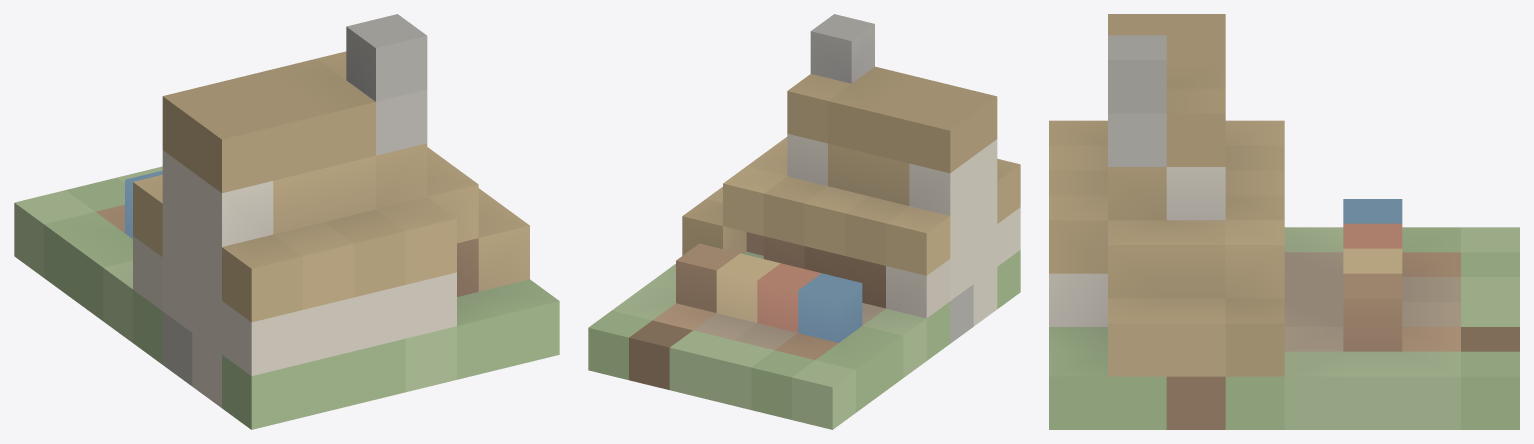
File: weaver_wool.lite.glb
The picture shows the model from 3 angles, left to right: view 1: azimuth 30°, elevation 25°; view 2: azimuth 150°, elevation 25°; view 3: azimuth 270°, elevation 25°; orthographic projection. The views are drawn at different scales.
Parts seen in each view (by area): view 1: weaver_wool; view 2: weaver_wool; view 3: weaver_wool.
Part boxes in pixels (x1,y1,x2,y2): weaver_wool: [14, 14, 559, 429]; weaver_wool: [588, 14, 1020, 429]; weaver_wool: [1049, 14, 1519, 429].
Size of the model in its own units: 3 by 3 by 4.
